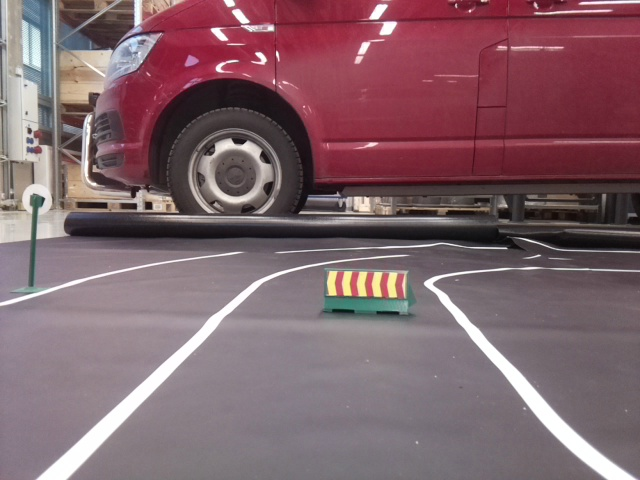ClosedRoadStand: (321, 265, 409, 313)
